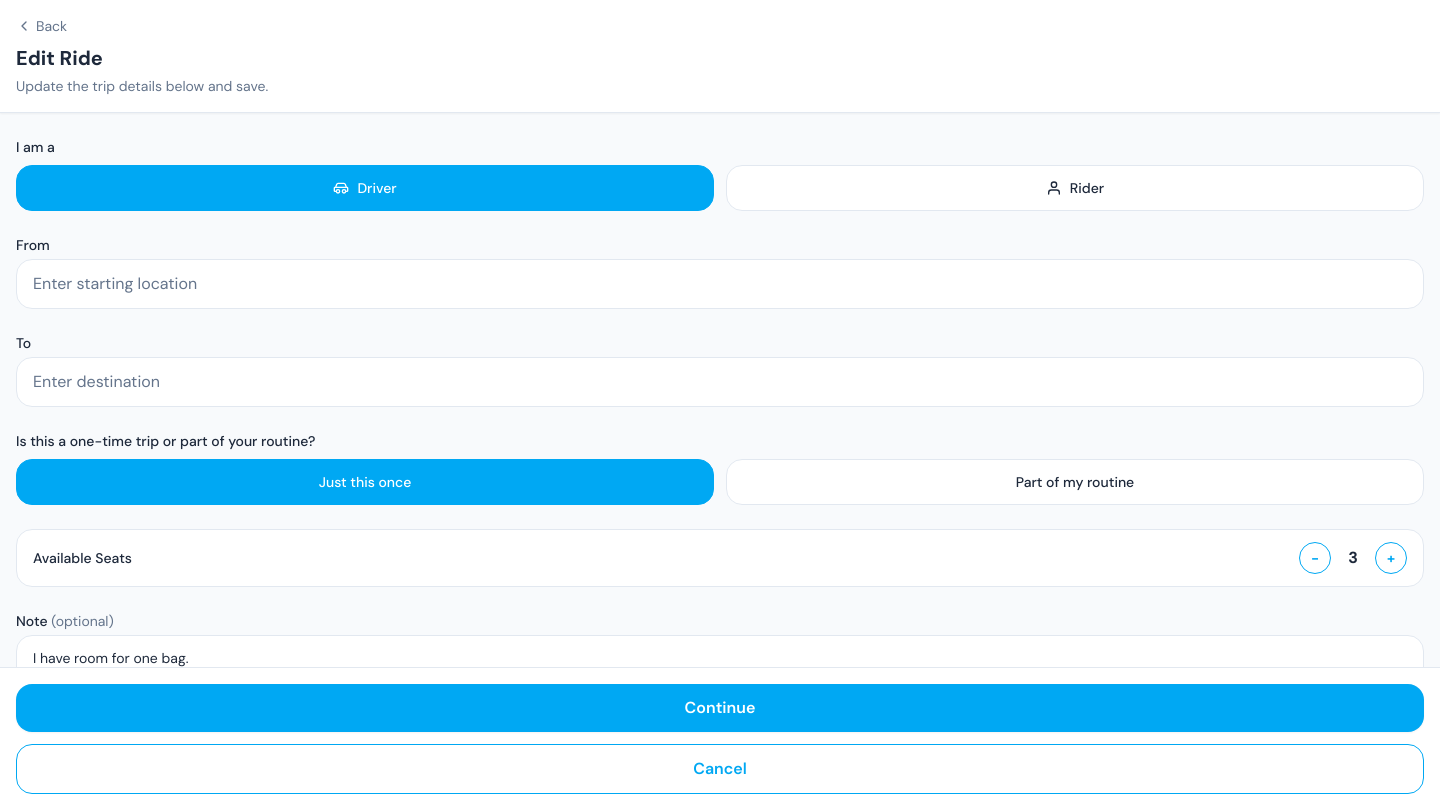
Scenario: SchedulePage edit mode (v1.3, iOS parity) › renders "Save Changes" instead of "Schedule Trip" on the submit button
# Walk through to the schedule step where submit lives.
Click the button with test id "continue-button".
click(720, 708)  # box [16, 684, 1424, 732]
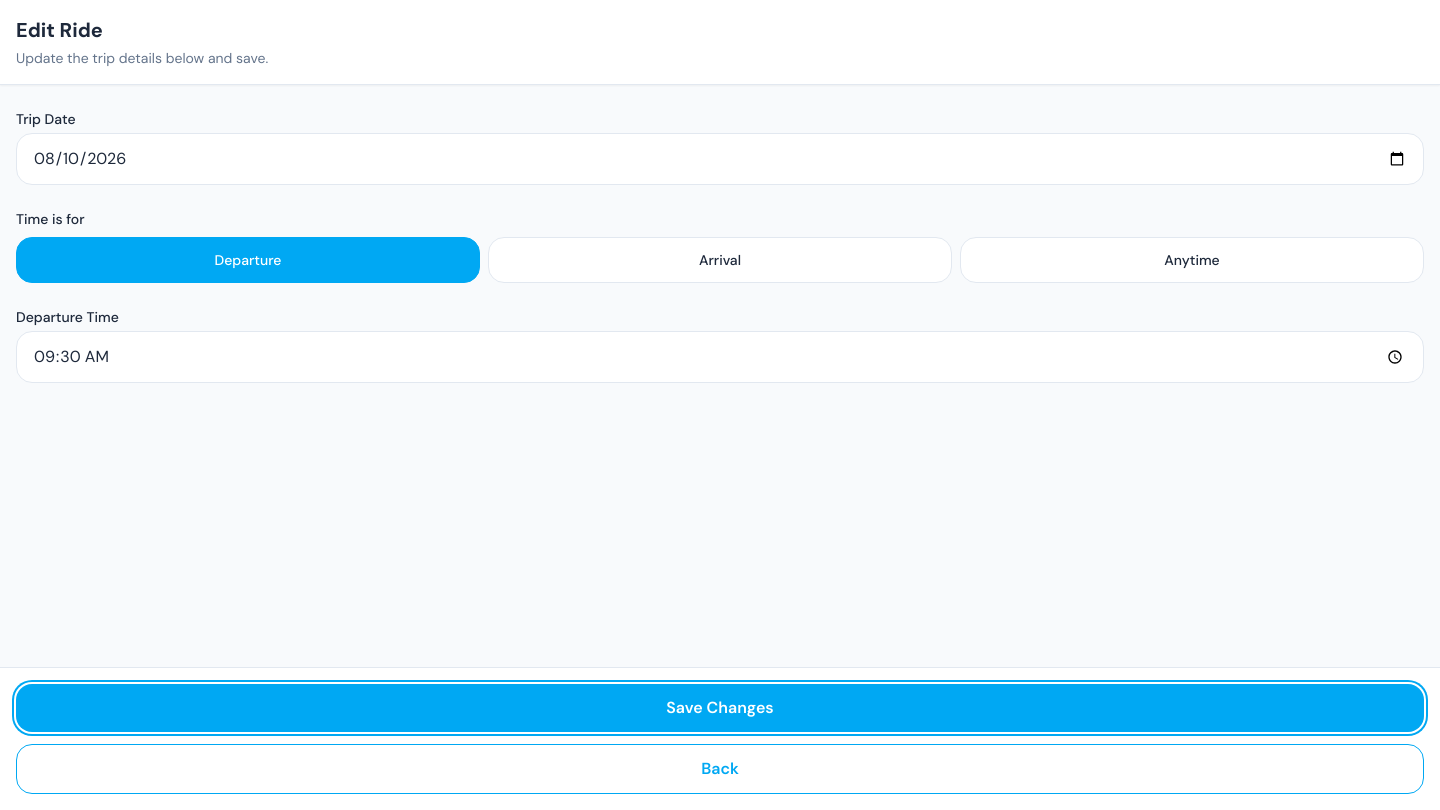
Expected: the button with test id "submit-schedule-button" reads "Save Changes", [16, 684, 1424, 732]
